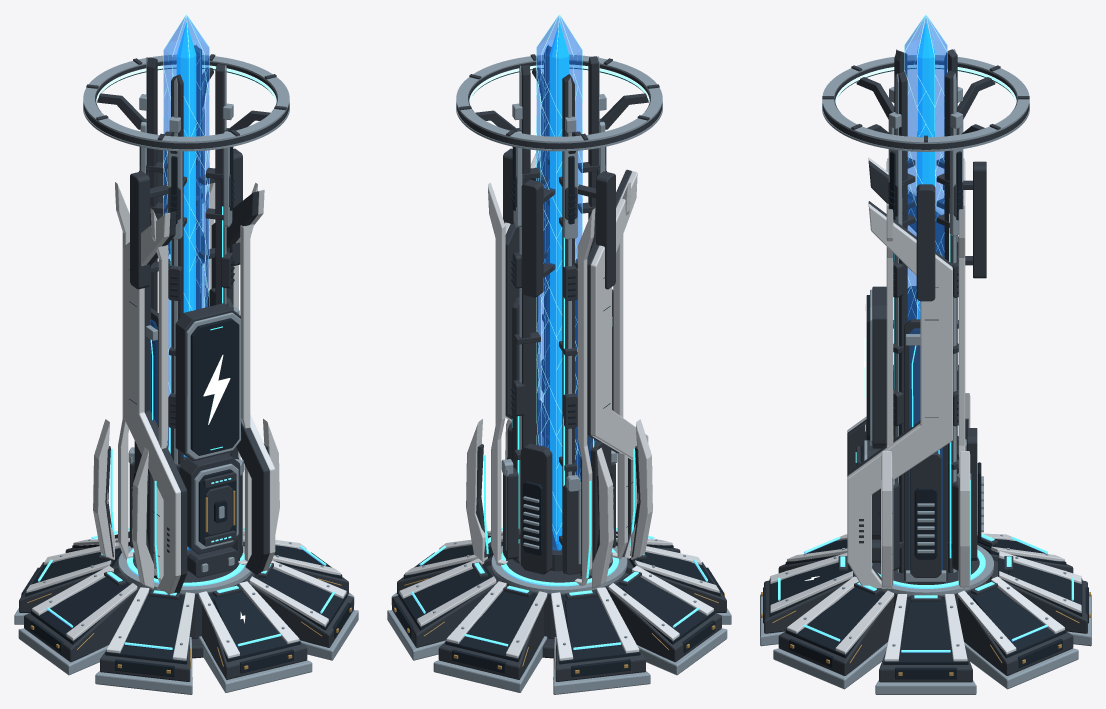
Rendered from agv_charge_tower.glb.
The picture shows the model from 3 angles, left to right: view 1: azimuth 30°, elevation 25°; view 2: azimuth 150°, elevation 25°; view 3: azimuth 270°, elevation 25°; orthographic projection.
Visible parts, largest first — view 1: 04_Internal_Frame, 10_Base_Frame, 11_Base_Panels, 16_Front_Panel, 01_Crystal_Shell, 12_Base_Armor, 07_Halo_Metal, 09_Armor_Side_-1, 18_Charging_Bay, 09_Armor_Lower_Fins, 19_Rear_Service, 15_Mechanical_Details (+13 smaller); view 2: 04_Internal_Frame, 10_Base_Frame, 11_Base_Panels, 01_Crystal_Shell, 19_Rear_Service, 12_Base_Armor, 07_Halo_Metal, 15_Mechanical_Details, 02_Crystal_Inner, 09_Armor_Side_-1, 09_Armor_Lower_Fins, 09_Armor_Back_1 (+7 smaller); view 3: 11_Base_Panels, 10_Base_Frame, 04_Internal_Frame, 09_Armor_Side_1, 19_Rear_Service, 12_Base_Armor, 07_Halo_Metal, 01_Crystal_Shell, 15_Mechanical_Details, 09_Armor_Lower_Fins, 16_Front_Panel, 05_Frame_Trim (+9 smaller).
Boxes of the visible parts, box(x1,y1,x2,y2) form: 04_Internal_Frame: box(105, 45, 269, 593); 10_Base_Frame: box(14, 545, 358, 694); 11_Base_Panels: box(22, 531, 350, 677); 16_Front_Panel: box(175, 303, 241, 460); 01_Crystal_Shell: box(163, 16, 209, 550); 12_Base_Armor: box(26, 531, 346, 660); 07_Halo_Metal: box(83, 54, 289, 153); 09_Armor_Side_-1: box(123, 212, 180, 594); 18_Charging_Bay: box(179, 453, 239, 577); 09_Armor_Lower_Fins: box(93, 419, 279, 588); 19_Rear_Service: box(130, 148, 242, 563); 15_Mechanical_Details: box(21, 147, 351, 673); 04_Internal_Frame: box(476, 46, 640, 578); 10_Base_Frame: box(387, 541, 731, 694); 11_Base_Panels: box(395, 531, 723, 677); 01_Crystal_Shell: box(536, 16, 582, 550); 19_Rear_Service: box(503, 148, 615, 574); 12_Base_Armor: box(399, 530, 719, 660); 07_Halo_Metal: box(456, 54, 662, 153); 15_Mechanical_Details: box(394, 147, 724, 673); 02_Crystal_Inner: box(549, 23, 569, 550); 09_Armor_Side_-1: box(590, 171, 648, 558); 09_Armor_Lower_Fins: box(466, 419, 652, 588); 09_Armor_Back_1: box(488, 182, 507, 565); 11_Base_Panels: box(763, 536, 1088, 679); 10_Base_Frame: box(760, 545, 1091, 694); 04_Internal_Frame: box(847, 49, 972, 588); 09_Armor_Side_1: box(847, 204, 952, 588); 19_Rear_Service: box(910, 161, 986, 577); 12_Base_Armor: box(770, 533, 1081, 661); 07_Halo_Metal: box(822, 55, 1029, 151); 01_Crystal_Shell: box(904, 16, 947, 321); 15_Mechanical_Details: box(761, 151, 1090, 675); 09_Armor_Lower_Fins: box(881, 393, 970, 588); 16_Front_Panel: box(866, 286, 886, 448); 05_Frame_Trim: box(888, 49, 963, 581).
Size of the model in its own units: 1.48 by 3 by 1.48.
